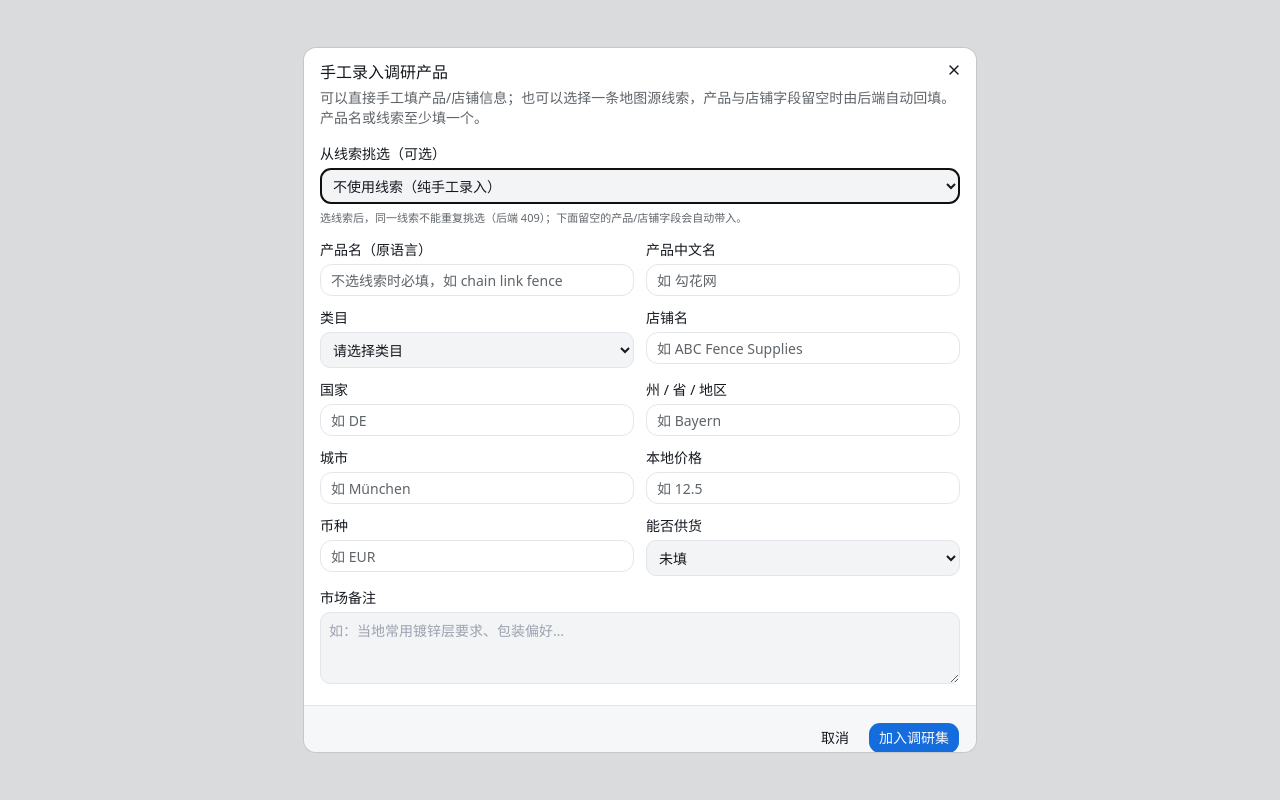
Test: ManualResearchDialog › 产品名与线索都没填 → 本地校验拦住，不发请求
What coordinates should you click on to do the following:
click the button "加入调研集"
I would click on:
 (914, 738)
Its box is [868, 722, 960, 754].
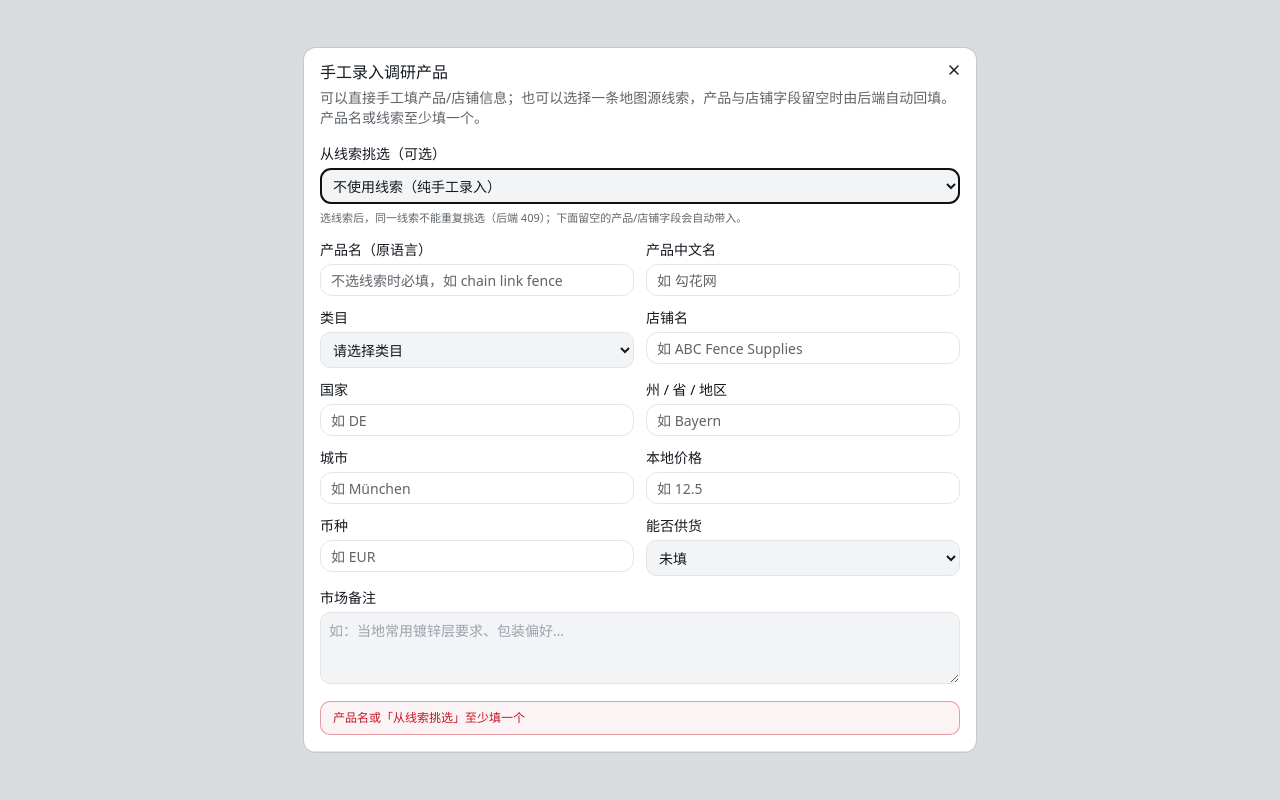
expect the text "产品名或「从线索挑选」至少填一个" is shown: met, box [333, 709, 525, 726]
